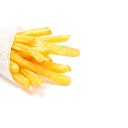frenchfries: (14, 25, 85, 88)
